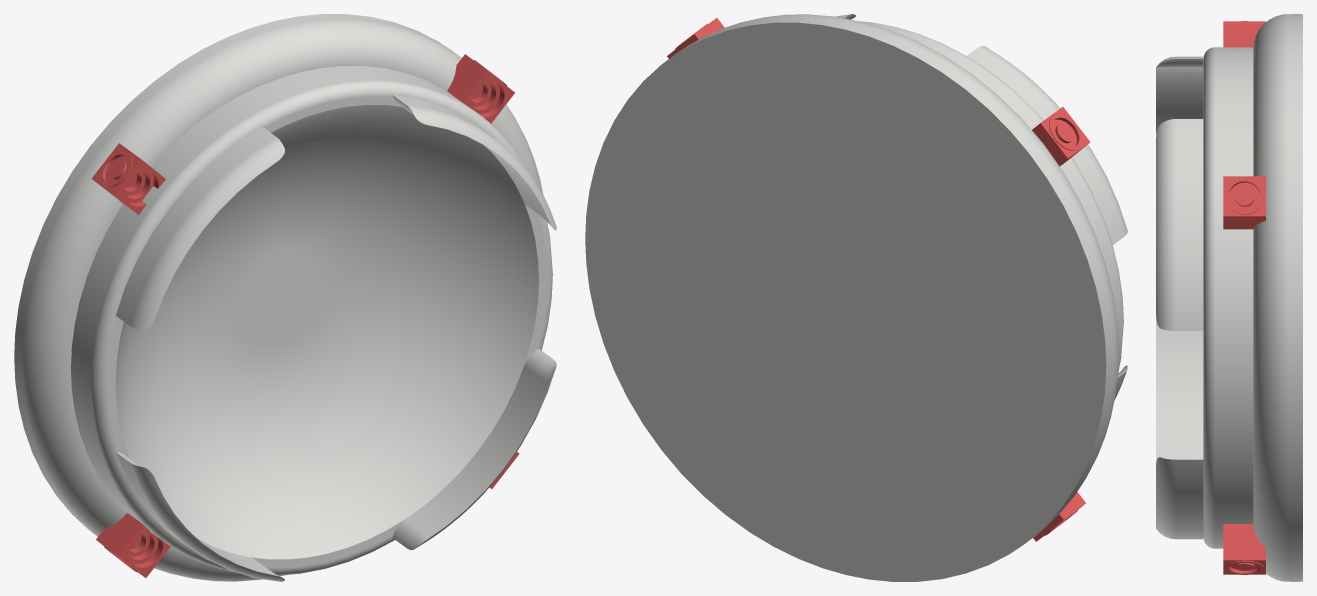
Rendered from Spyn Game Arena.fbx.
3 views of the same model, side by side, from view 1: azimuth 30°, elevation 25°; view 2: azimuth 150°, elevation 25°; view 3: azimuth 270°, elevation 25° (orthographic). The views are drawn at different scales.
Parts seen in each view (by area): view 1: Body3, Body17, Body18, Body15; view 2: Body3, Body17; view 3: Body3, Body15, Body19, Body17.
Part boxes in pixels (box(x1,y1,x2,y2)): Body3: box(14, 14, 556, 581); Body17: box(91, 143, 165, 214); Body18: box(96, 513, 170, 577); Body15: box(447, 54, 514, 123); Body3: box(585, 14, 1127, 581); Body17: box(1032, 107, 1090, 166); Body3: box(1156, 14, 1302, 581); Body15: box(1223, 176, 1265, 229); Body19: box(1223, 524, 1265, 574); Body17: box(1223, 21, 1265, 47).
Size of the model in its own units: 120 by 120 by 31.
